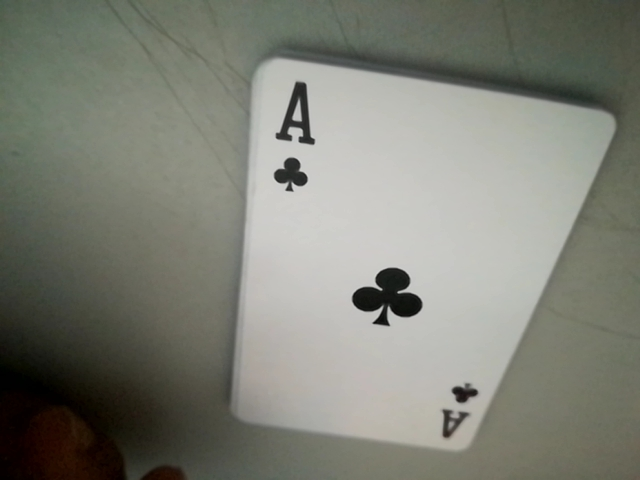mh a: (253, 63, 321, 199), (432, 372, 485, 450)
